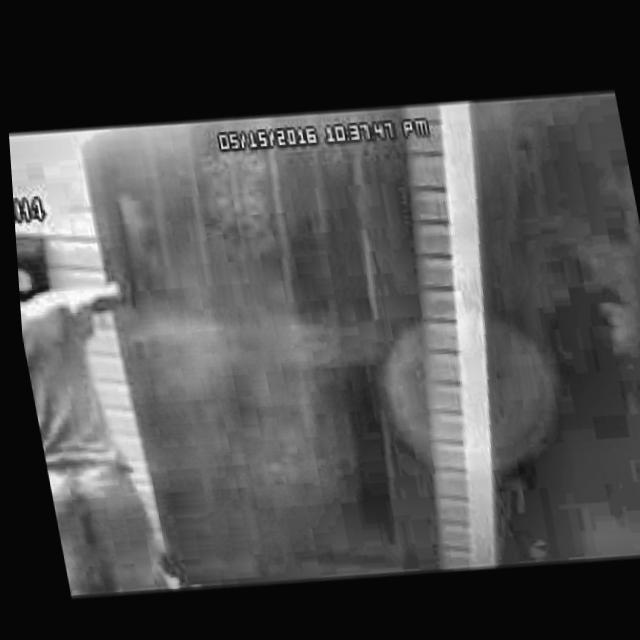burglary: (10, 196, 202, 600)
